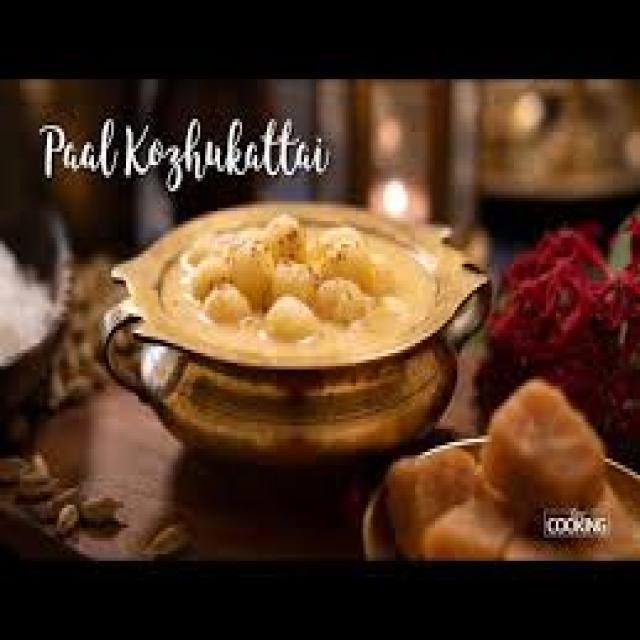paal kolukattai: (152, 198, 426, 367)
